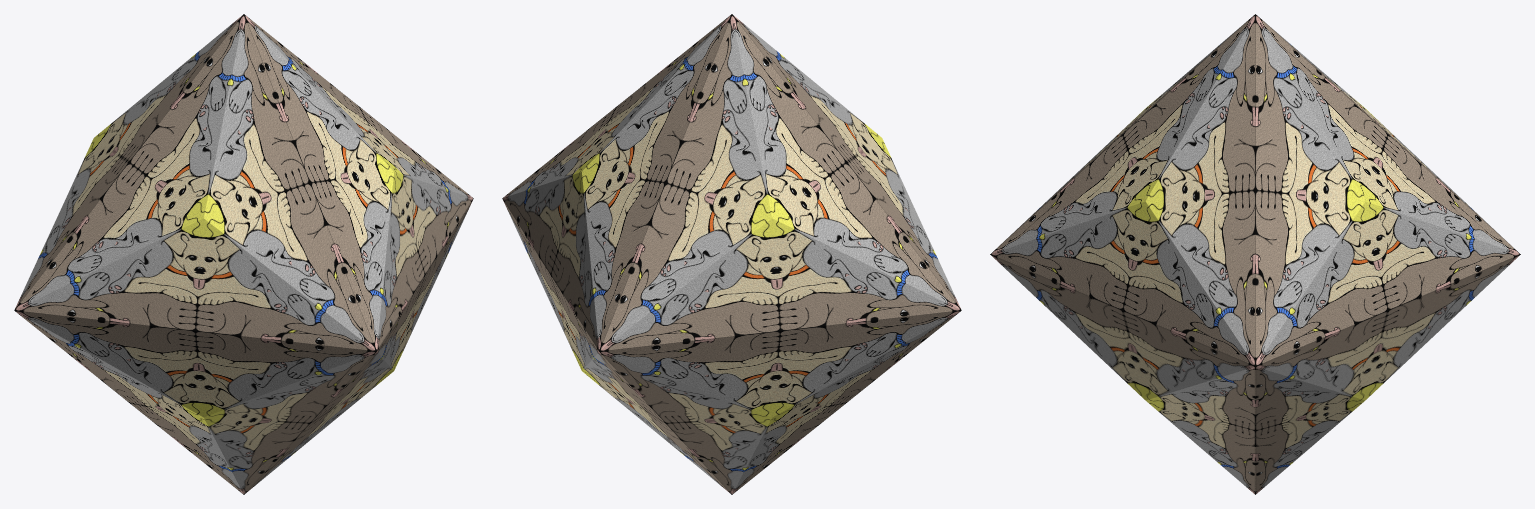
The model's file is TriakisOctahedron26.obj.
3 views of the same model, side by side, from view 1: azimuth 30°, elevation 25°; view 2: azimuth 150°, elevation 25°; view 3: azimuth 270°, elevation 25° (orthographic).
Bounding box in the file's own units: 4.83 × 4.83 × 4.83.
Materials: 1 (1 with a texture image).
